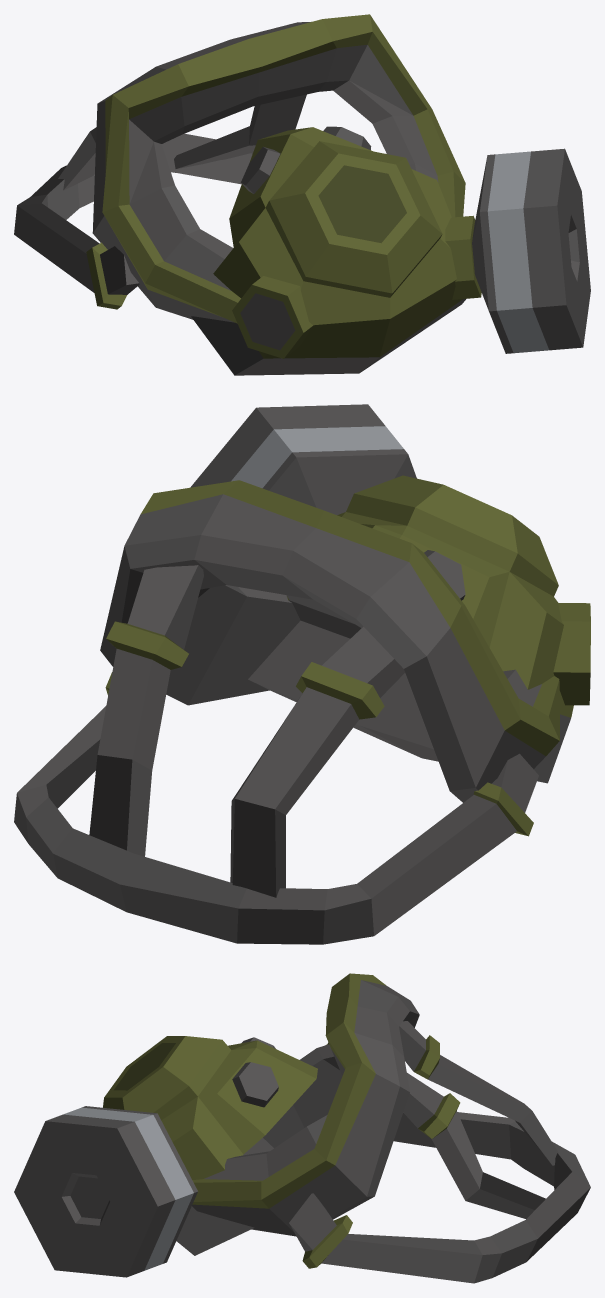
File: SM_Item_GasMask_01.fbx
3 views of the same model, one above another, from view 1: azimuth 30°, elevation 25°; view 2: azimuth 150°, elevation 25°; view 3: azimuth 270°, elevation 25° (orthographic). The views are drawn at different scales.
Visible parts, largest first — view 1: SM_Item_GasMask_01; view 2: SM_Item_GasMask_01; view 3: SM_Item_GasMask_01.
Boxes of the visible parts, x1=… form: SM_Item_GasMask_01: x1=14, y1=14, x2=590, y2=375; SM_Item_GasMask_01: x1=14, y1=404, x2=590, y2=944; SM_Item_GasMask_01: x1=14, y1=973, x2=590, y2=1283.
Bounding box in the file's own units: 31.58 × 21.69 × 46.69.
